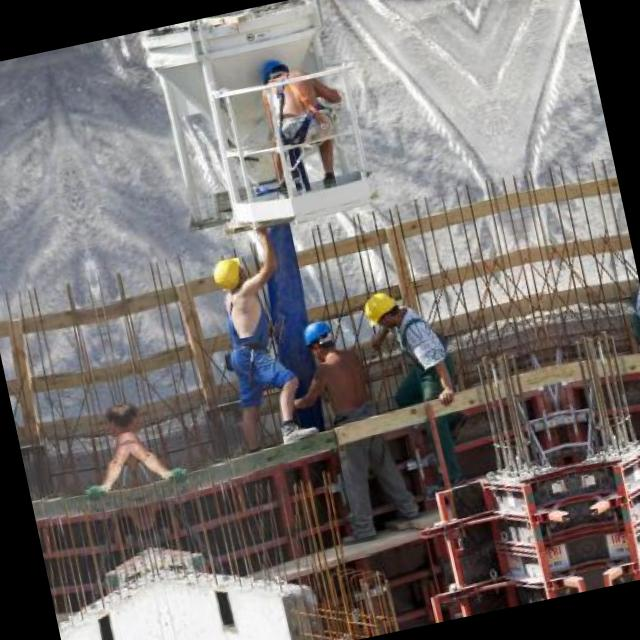helmet: (250, 48, 296, 106), (356, 286, 404, 336), (296, 316, 338, 368), (207, 252, 250, 298)
